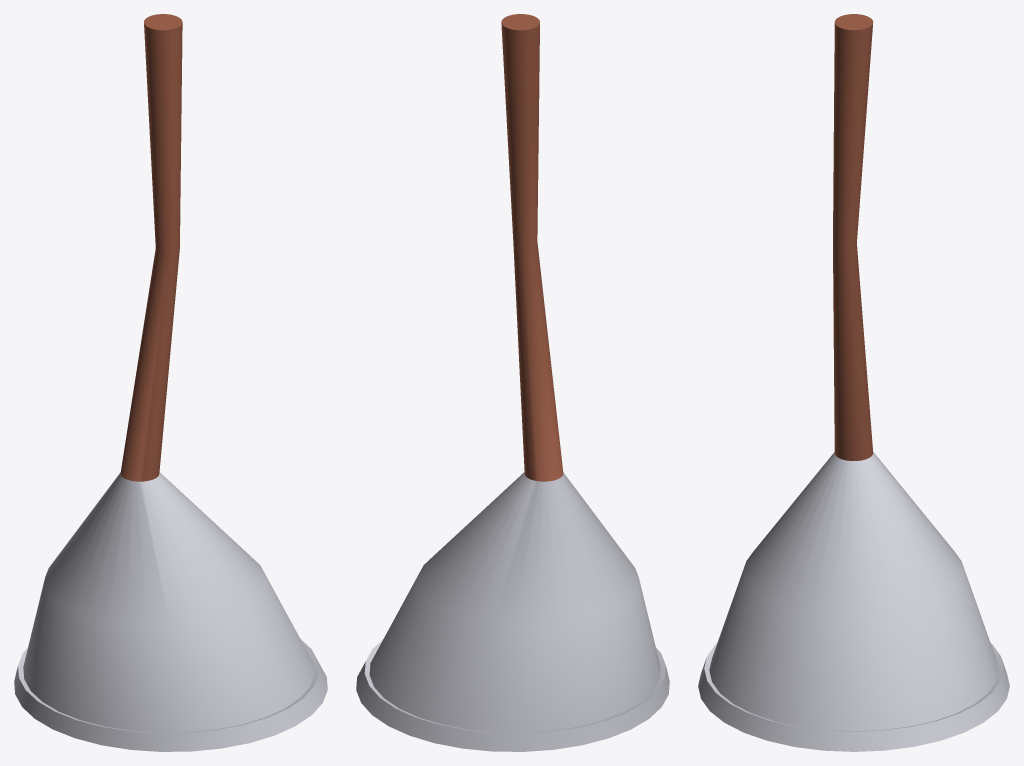
Rendered from plunger 1.fbx.
The picture shows the model from 3 angles, left to right: view 1: azimuth 30°, elevation 25°; view 2: azimuth 150°, elevation 25°; view 3: azimuth 270°, elevation 25°; orthographic projection.
Visible parts, largest first — view 1: Cylinder; view 2: Cylinder; view 3: Cylinder.
Boxes of the visible parts, <box> form: Cylinder: <box>14,14,327,751</box>; Cylinder: <box>356,14,669,751</box>; Cylinder: <box>698,14,1009,751</box>.
Size of the model in its own units: 207 by 484 by 207.
